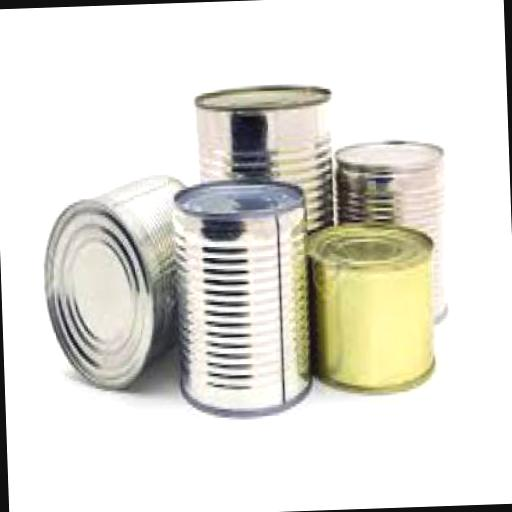metal: (37, 172, 205, 393), (172, 180, 308, 416), (304, 216, 438, 394), (192, 82, 331, 238), (332, 139, 446, 322)
